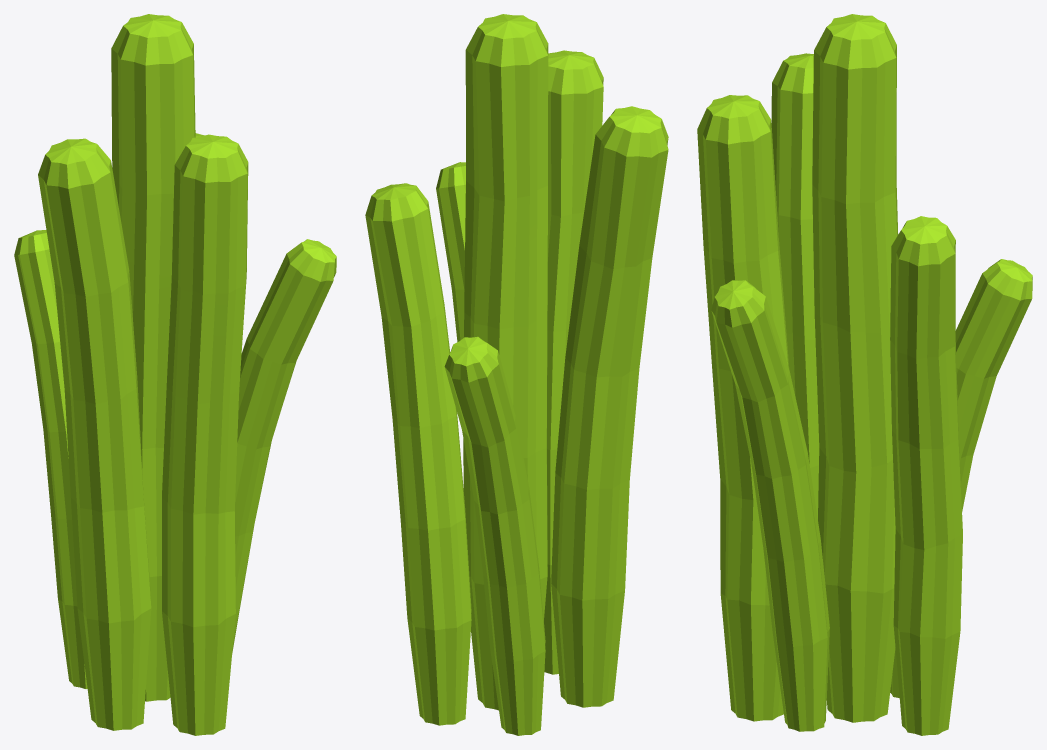
File: cactus-d.glb
3 views of the same model, side by side, from view 1: azimuth 30°, elevation 25°; view 2: azimuth 150°, elevation 25°; view 3: azimuth 270°, elevation 25° (orthographic). The views are drawn at different scales.
Visible parts, largest first — view 1: Cactus D; view 2: Cactus D; view 3: Cactus D.
Boxes of the visible parts, bbox=[...] form: Cactus D: bbox=[14, 14, 336, 735]; Cactus D: bbox=[365, 14, 668, 735]; Cactus D: bbox=[697, 14, 1032, 735].
Size of the model in its own units: 0.8166 by 2.05 by 0.9027.
